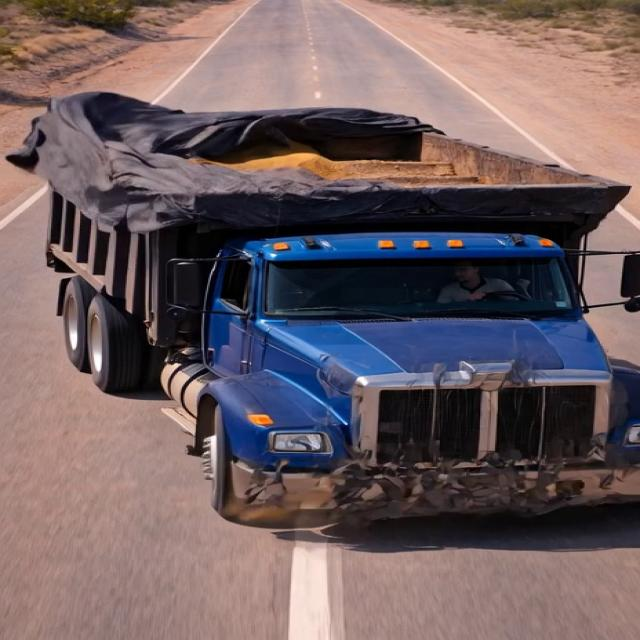trailer: (15, 86, 632, 211)
truck: (10, 53, 631, 518)
